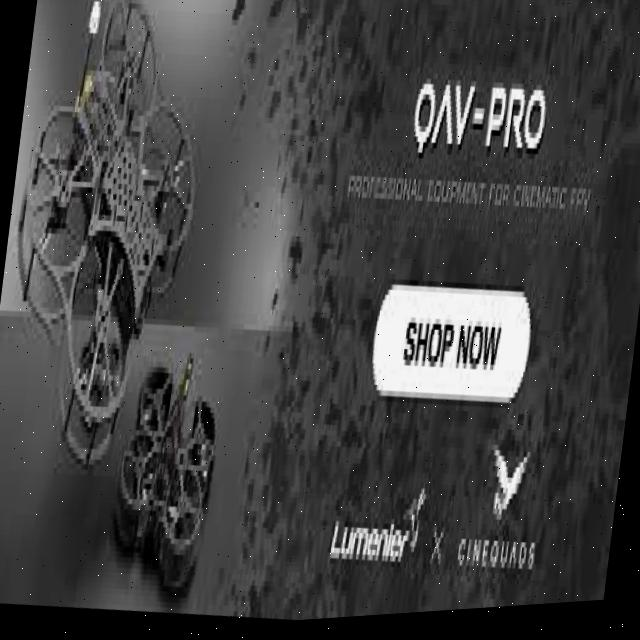drone: (0, 0, 223, 484), (102, 344, 240, 611)
